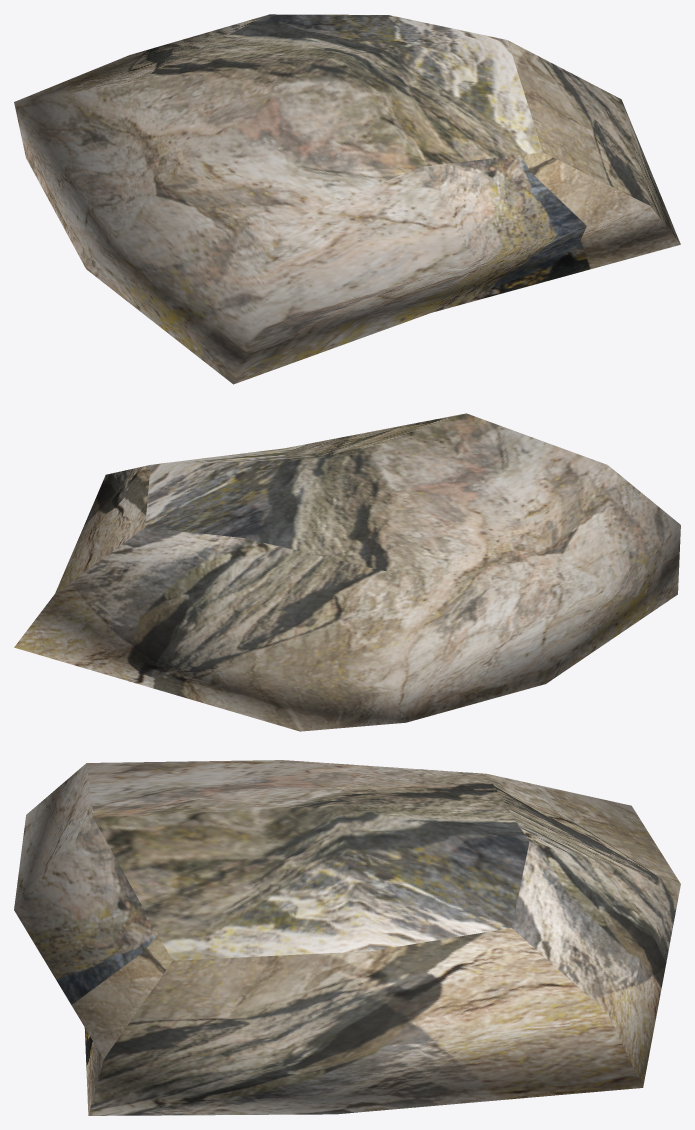
The model's file is stone_02.glb.
3 renders of one model, top to bottom at view 1: azimuth 30°, elevation 25°; view 2: azimuth 150°, elevation 25°; view 3: azimuth 270°, elevation 25°, orthographic. The views are drawn at different scales.
Parts seen in each view (by area): view 1: stone_022; view 2: stone_022; view 3: stone_022.
Boxes of the visible parts, box(x1,y1,x2,y2) form: stone_022: box(14, 14, 680, 384); stone_022: box(14, 413, 680, 731); stone_022: box(14, 760, 680, 1115).
Bounding box in the file's own units: 6.8 × 2.25 × 6.78.
Materials: 1 (1 with a texture image).
